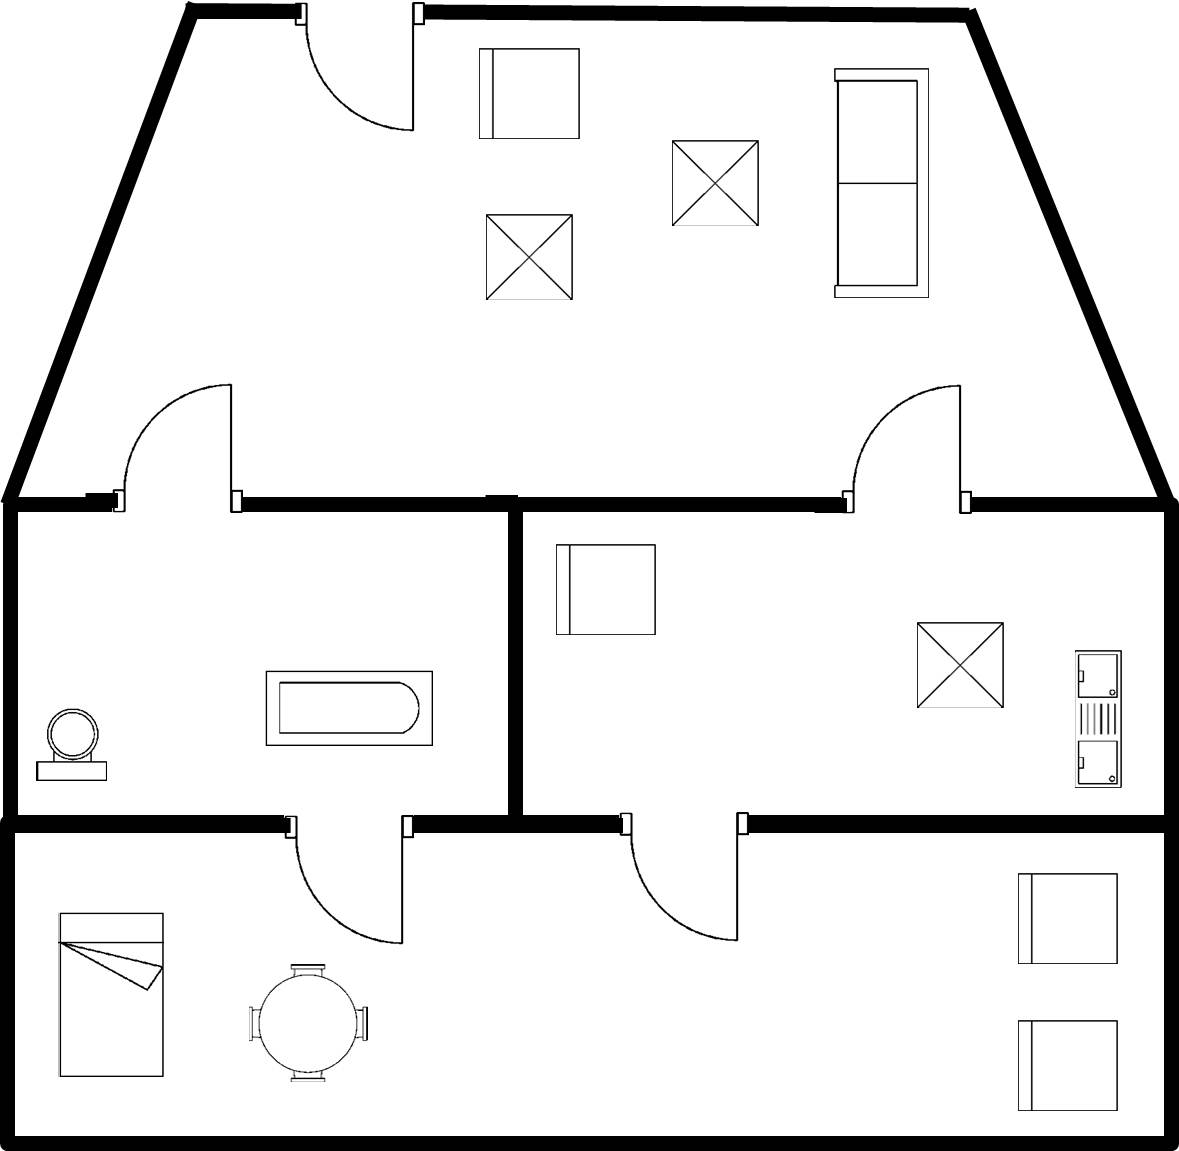bed: (50, 905, 173, 1086)
coffee_table: (664, 133, 774, 239), (476, 206, 584, 307), (906, 614, 1012, 716)
large_sink: (31, 704, 116, 789)
large_sofa: (823, 60, 934, 307)
round_table: (235, 955, 376, 1093)
small_sofa: (1006, 866, 1128, 975), (1001, 1012, 1125, 1115), (546, 534, 661, 646), (471, 42, 591, 146)
tub: (256, 662, 441, 756)
twin_sink: (1064, 638, 1134, 798)
